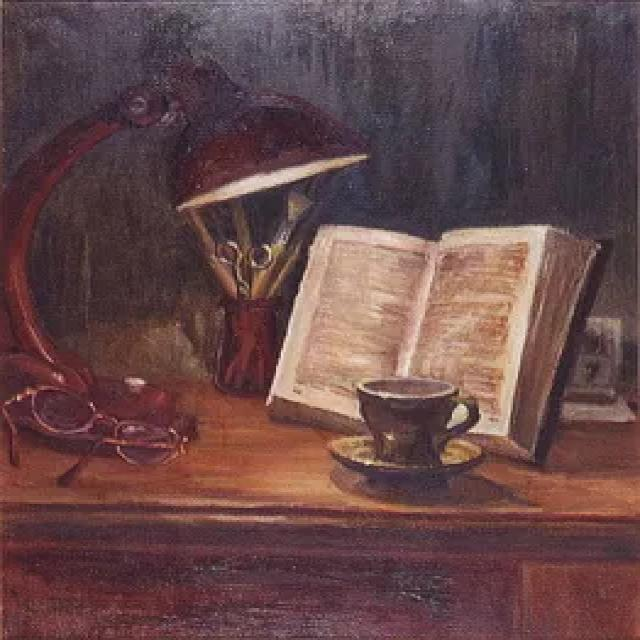book: (258, 198, 603, 486)
